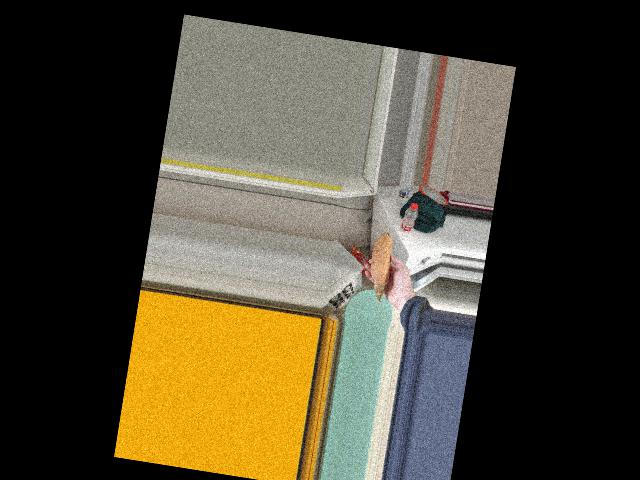sweet_potato: (368, 225, 400, 289)
